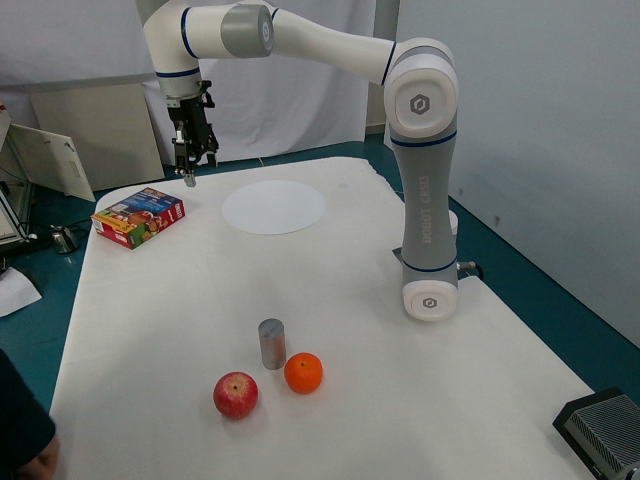apple: (209, 367, 262, 419)
metalROD: (253, 313, 290, 375)
